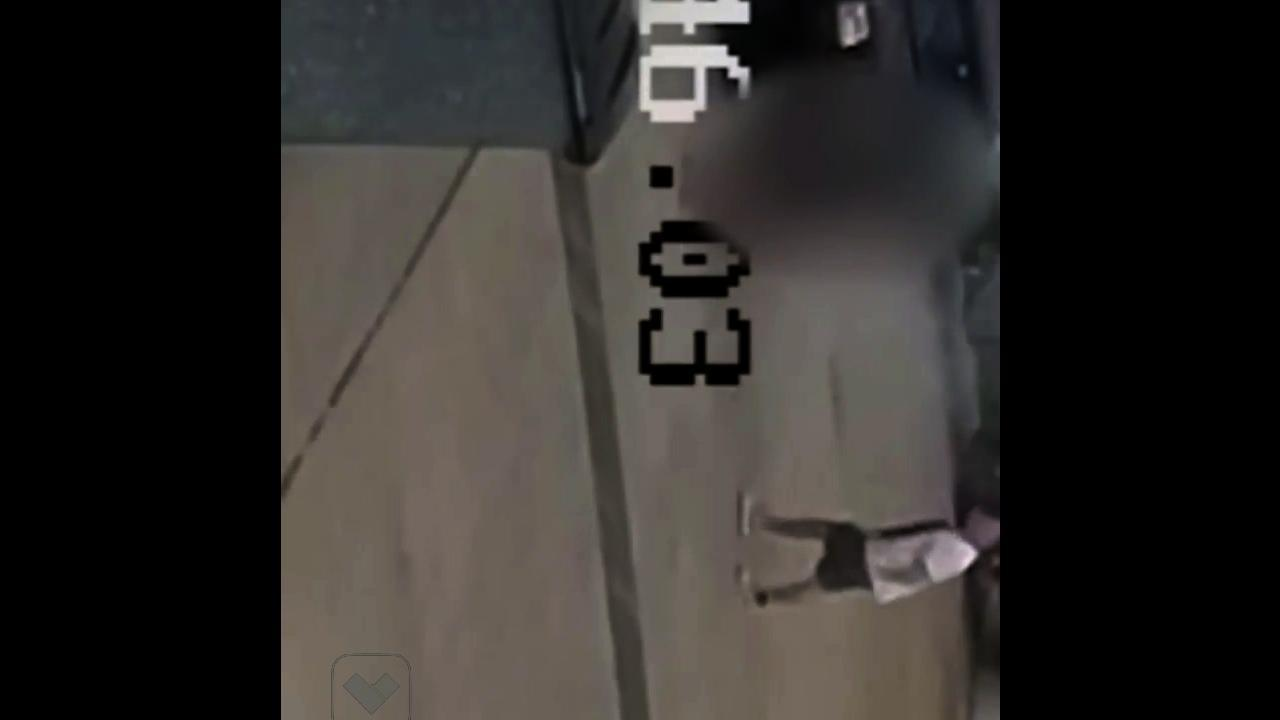gun: (865, 518, 955, 536)
